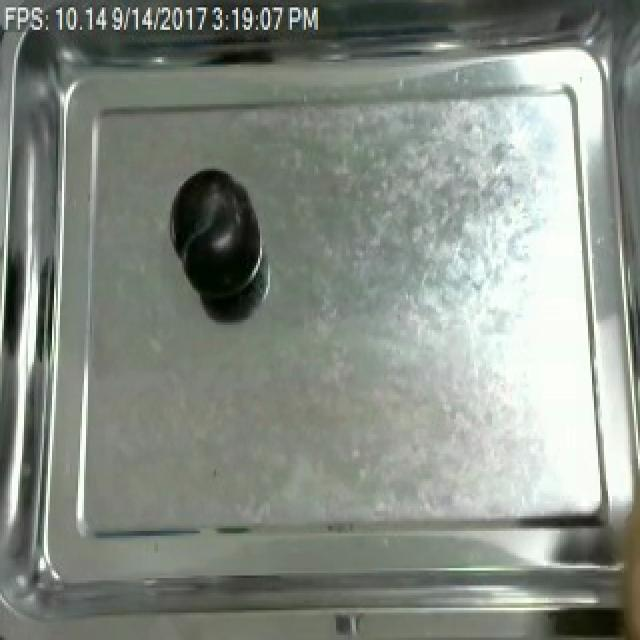Fruit: (168, 166, 260, 310)
